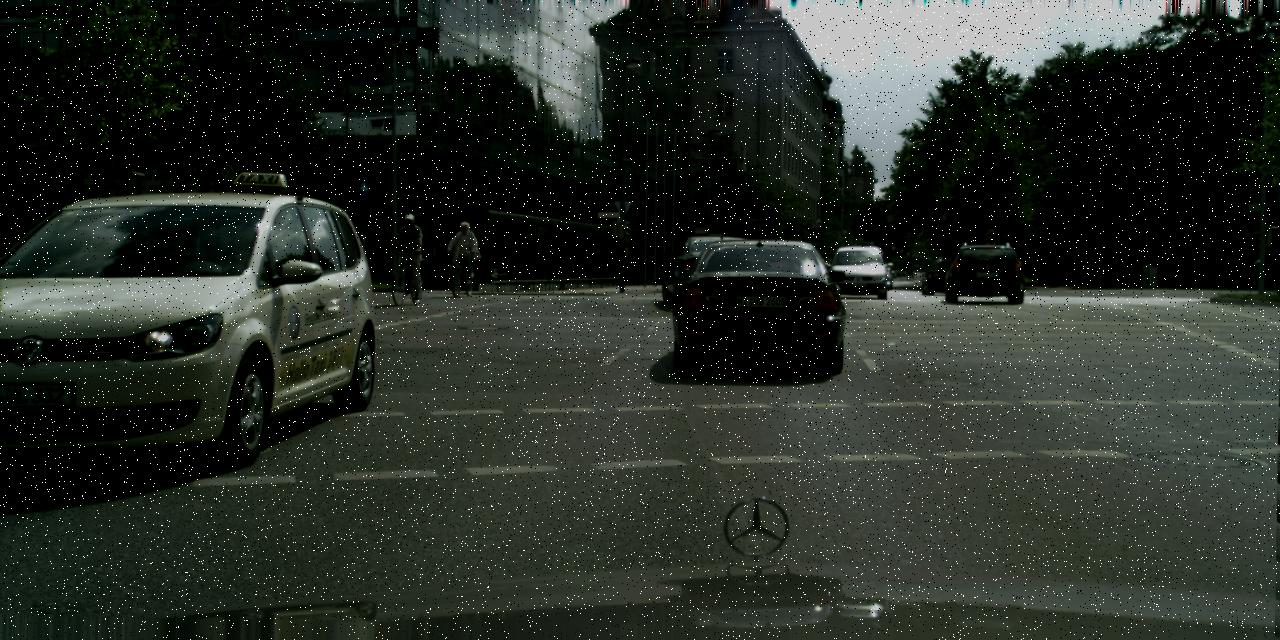ped: (393, 213, 426, 294), (451, 220, 475, 278)
